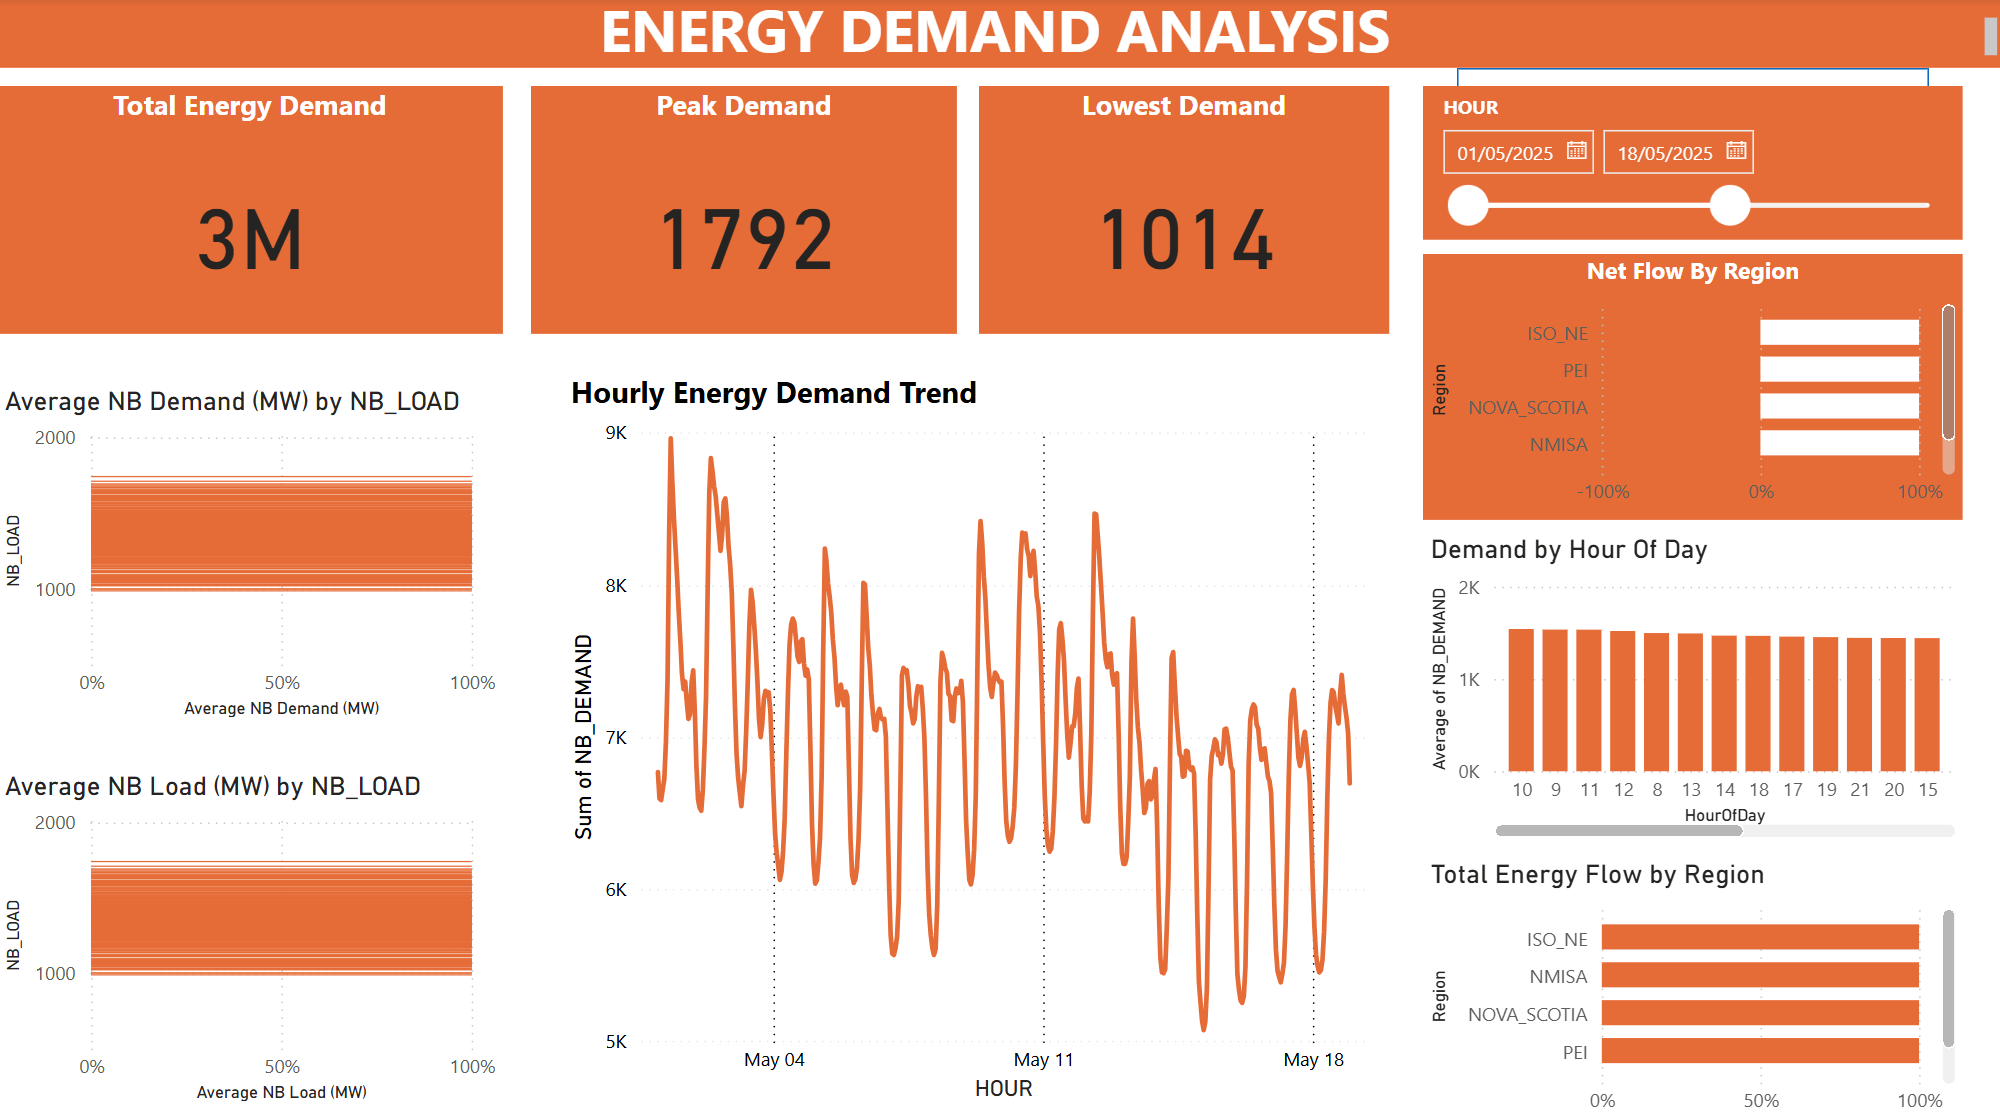

The dashboard page shown, as its layout file describes it:
{"tool":"powerbi","page":{"name":"Page 1","canvas":[1280,720],"ordinal":0},"visuals":[{"type":"shape","box":[0,0,1280,43.3],"z":0},{"type":"textbox","box":[0,0,1280,44.6],"z":1000},{"type":"card","title":"Total Energy Demand","fields":{"Values":["nbpower_dataset.Total Energy Demand (MWh)"]},"box":[0,56.1,322.5,158.1],"z":2000},{"type":"card","title":"Peak Demand","fields":{"Values":["nbpower_dataset.Peak Hourly Demand (MW)"]},"box":[340.4,56.1,271.6,158.1],"z":3000},{"type":"card","title":"Lowest Demand","fields":{"Values":["nbpower_dataset.Lowest Hourly Deamd (MW)"]},"box":[626,56.1,261.4,158.1],"z":4000},{"type":"hundredPercentStackedBarChart","title":"Net Flow By Region","fields":{"Y":["nbpower_dataset.Net Flow (MW)"],"Category":["nbpower_dataset.Region"]},"box":[909,163.2,344.2,169.6],"z":5000},{"type":"lineChart","title":"Hourly  Energy Demand Trend","fields":{"Y":["Sum(nbpower_dataset.NB_DEMAND)"],"Category":["nbpower_dataset.HOUR"]},"box":[360.8,238.4,526.5,469.2],"z":6000},{"type":"clusteredColumnChart","title":"Demand by Hour Of Day","fields":{"Category":["nbpower_dataset.HourOfDay"],"Y":["Avg(nbpower_dataset.NB_DEMAND)"]},"box":[909,341.7,344.2,197.6],"z":7000},{"type":"hundredPercentStackedBarChart","title":"Total Energy Flow by Region","fields":{"Category":["nbpower_dataset.Region"],"Y":["nbpower_dataset.Average NB Demand (MW)"]},"box":[909,548.2,344.2,172.1],"z":8000},{"type":"hundredPercentStackedBarChart","fields":{"Category":["nbpower_dataset.NB_LOAD"],"Y":["nbpower_dataset.Average NB Demand (MW)"]},"box":[0,247.3,322.5,215.5],"z":9000},{"type":"hundredPercentStackedBarChart","fields":{"Category":["nbpower_dataset.NB_LOAD"],"Y":["nbpower_dataset.Average NB Load (MW)"]},"box":[0,492.1,322.5,215.5],"z":10000},{"type":"shape","box":[930.7,44.6,300.9,76.5],"z":11000},{"type":"slicer","fields":{"Values":["nbpower_dataset.HOUR"]},"box":[909,56.1,344.2,98.2],"z":12000}]}

Visuals, with their boxes in screenshot pixels (x1, y1, x2, y2), scaled from the page's 1280x720 canvas onto the 2000x1118 screenshot:
shape: bbox=(0, 0, 1999, 67)
textbox: bbox=(0, 0, 1999, 69)
"Total Energy Demand" card: bbox=(0, 87, 504, 333)
"Peak Demand" card: bbox=(532, 87, 956, 333)
"Lowest Demand" card: bbox=(978, 87, 1387, 333)
"Net Flow By Region" hundredPercentStackedBarChart: bbox=(1420, 253, 1958, 517)
"Hourly  Energy Demand Trend" lineChart: bbox=(564, 370, 1386, 1099)
"Demand by Hour Of Day" clusteredColumnChart: bbox=(1420, 531, 1958, 837)
"Total Energy Flow by Region" hundredPercentStackedBarChart: bbox=(1420, 851, 1958, 1117)
hundredPercentStackedBarChart - nbpower_dataset.NB_LOAD x nbpower_dataset.Average NB Demand (MW): bbox=(0, 384, 504, 719)
hundredPercentStackedBarChart - nbpower_dataset.NB_LOAD x nbpower_dataset.Average NB Load (MW): bbox=(0, 764, 504, 1099)
shape: bbox=(1454, 69, 1924, 188)
slicer - nbpower_dataset.HOUR: bbox=(1420, 87, 1958, 240)
